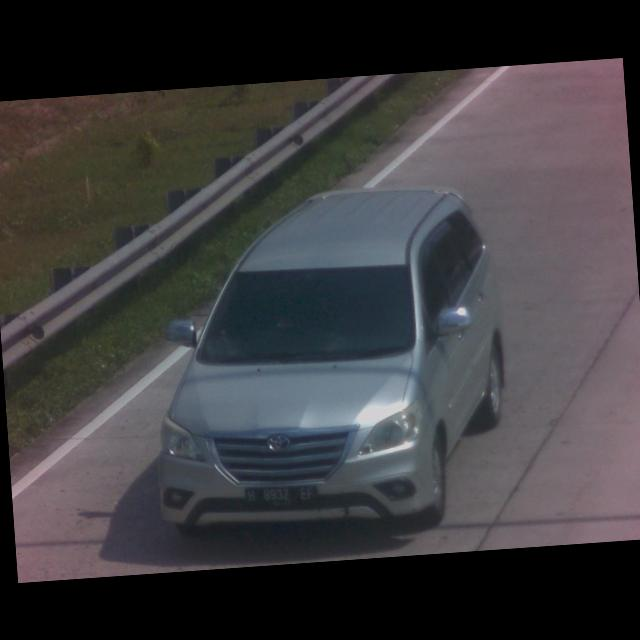plate: (242, 482, 322, 510)
